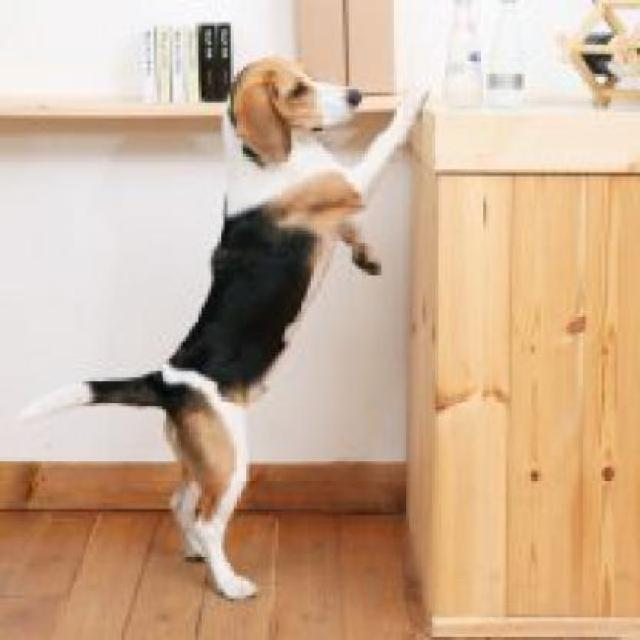Dog: (9, 54, 434, 611)
